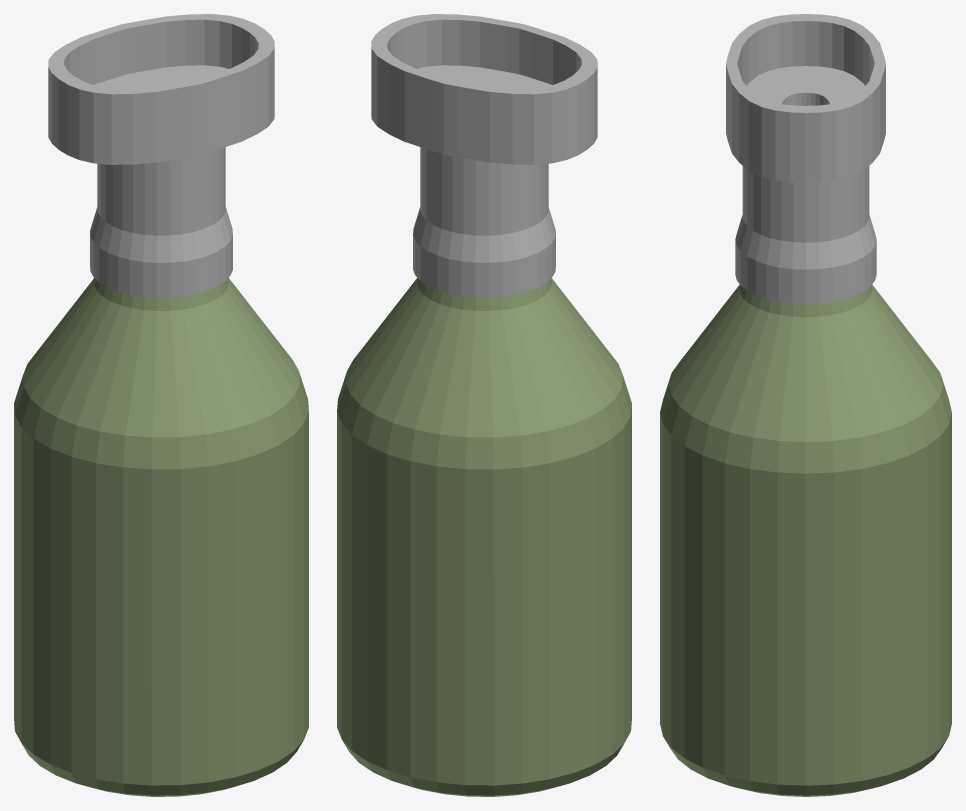
File: oogdouche.fbx
The picture shows the model from 3 angles, left to right: view 1: azimuth 30°, elevation 25°; view 2: azimuth 150°, elevation 25°; view 3: azimuth 270°, elevation 25°; orthographic projection.
Visible parts, largest first — view 1: Cylinder, Cylinder.001; view 2: Cylinder, Cylinder.001; view 3: Cylinder, Cylinder.001.
Part boxes in pixels (<box>): Cylinder: <box>14,278,308,796</box>; Cylinder.001: <box>48,14,274,297</box>; Cylinder: <box>337,278,631,796</box>; Cylinder.001: <box>371,14,597,297</box>; Cylinder: <box>660,284,951,796</box>; Cylinder.001: <box>726,14,885,303</box>.
Bounding box in the file's own units: 12.18 × 31.59 × 12.18.
